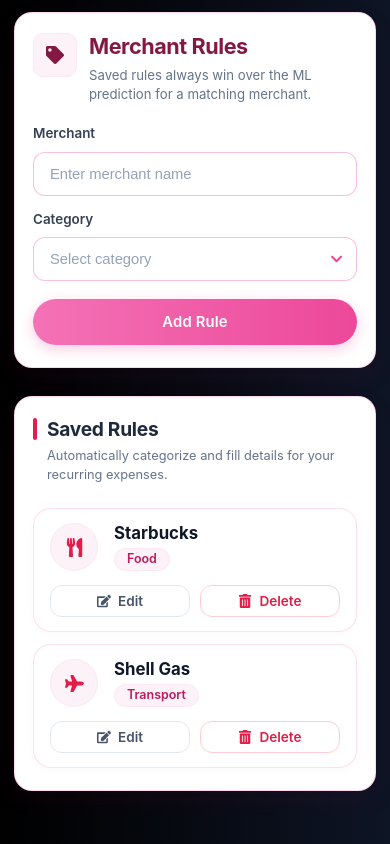
Test: MerchantRules -- deleting a rule › asks for confirmation before deleting, and does nothing on cancel
The image size is (390, 844).
Click the button "Delete" below "Starbucks" at (270, 601), box [200, 585, 340, 617]
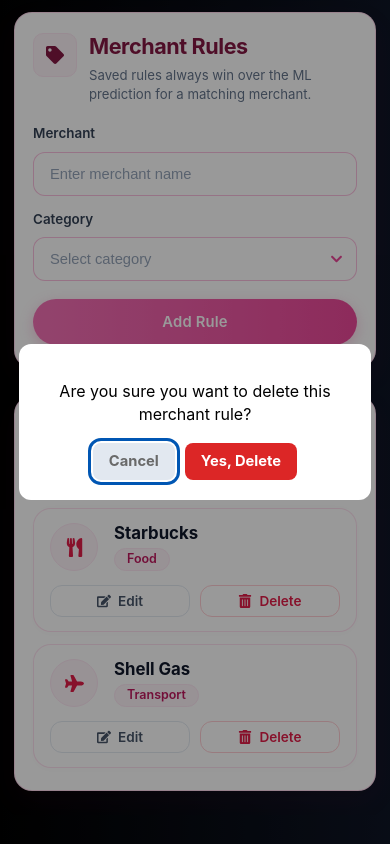
Check: the text "Are you sure you want to delete this merchant rule?" is shown, box [49, 380, 341, 426]
Click the button "Cancel" at (134, 461), box [93, 442, 175, 480]
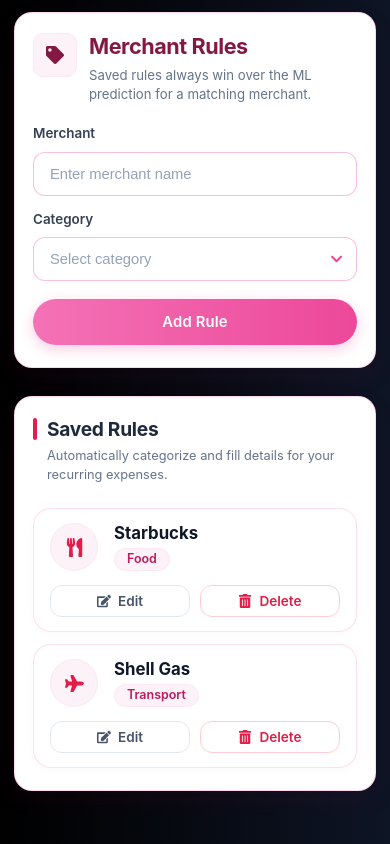
Check: the text "Are you sure you want to delete this merchant rule" is gone
